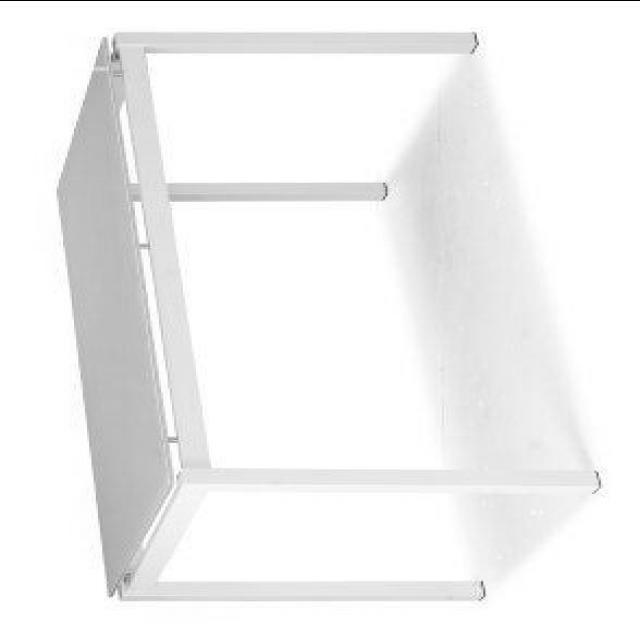table: (55, 28, 600, 600)
